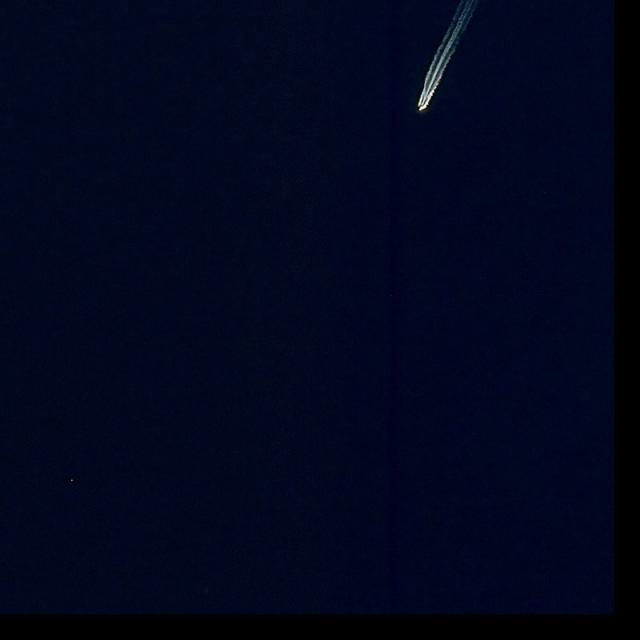ship: (418, 105, 424, 112)
